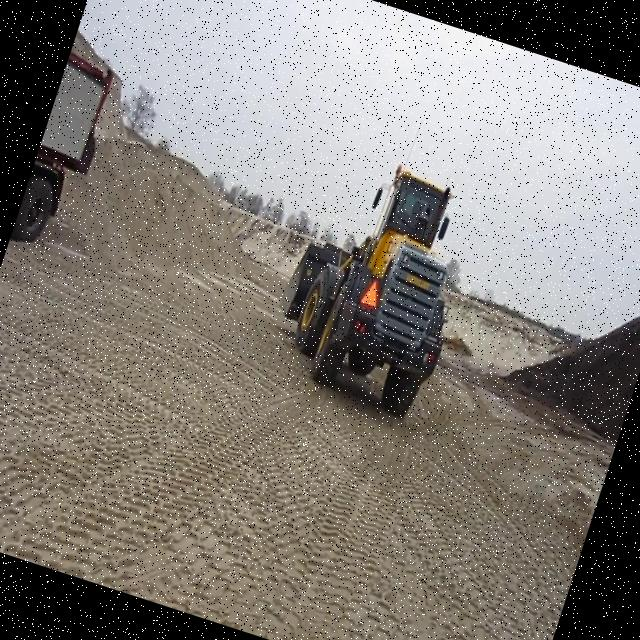Dump Truck: (9, 46, 126, 260)
Loader: (254, 90, 508, 426)
